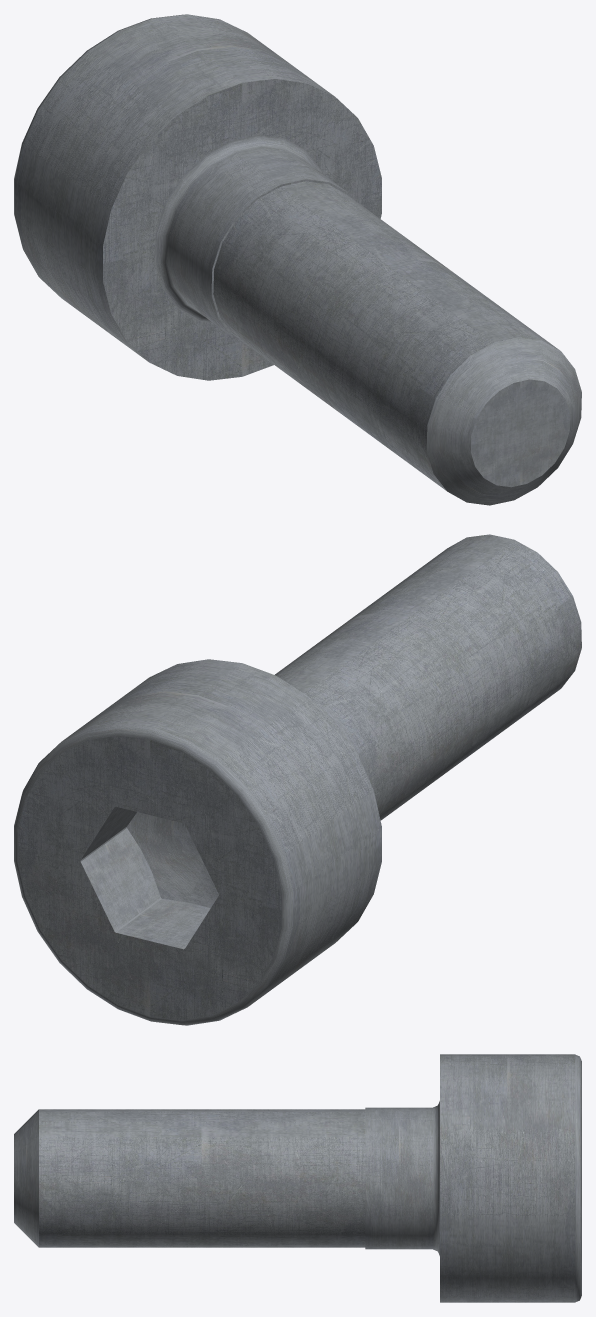
The model's file is VIS_CHC_M4x16.obj.
The picture shows the model from 3 angles, top to bottom: view 1: azimuth 30°, elevation 25°; view 2: azimuth 150°, elevation 25°; view 3: azimuth 270°, elevation 25°; orthographic projection. The views are drawn at different scales.
Visible parts, largest first — view 1: object__5; view 2: object__5; view 3: object__5.
Part boxes in pixels (bbox=[...]): object__5: bbox=[14, 14, 581, 505]; object__5: bbox=[14, 534, 581, 1025]; object__5: bbox=[14, 1054, 581, 1302].
Bounding box in the file's own units: 6.95 × 7 × 16.
